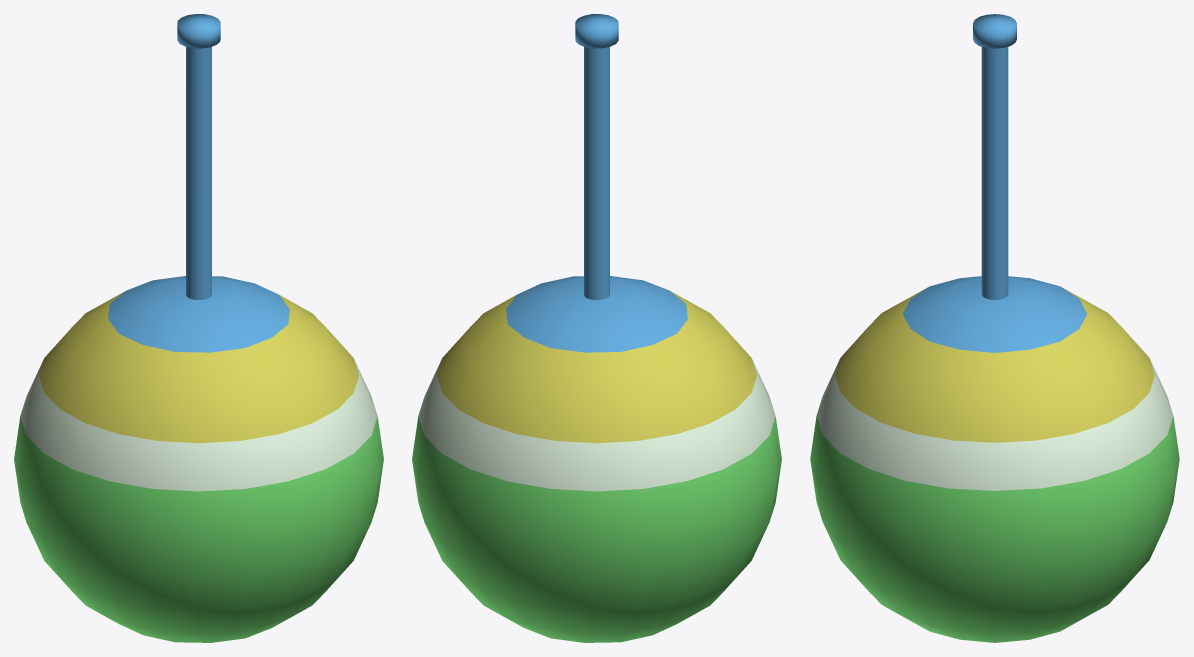
File: vertoball.fbx
The picture shows the model from 3 angles, left to right: view 1: azimuth 30°, elevation 25°; view 2: azimuth 150°, elevation 25°; view 3: azimuth 270°, elevation 25°; orthographic projection.
Visible parts, largest first — view 1: vertoball; view 2: vertoball; view 3: vertoball.
Part boxes in pixels (bbox=[...]): vertoball: bbox=[14, 14, 383, 642]; vertoball: bbox=[412, 14, 781, 642]; vertoball: bbox=[810, 14, 1179, 642].
Bounding box in the file's own units: 80 × 145 × 80.
